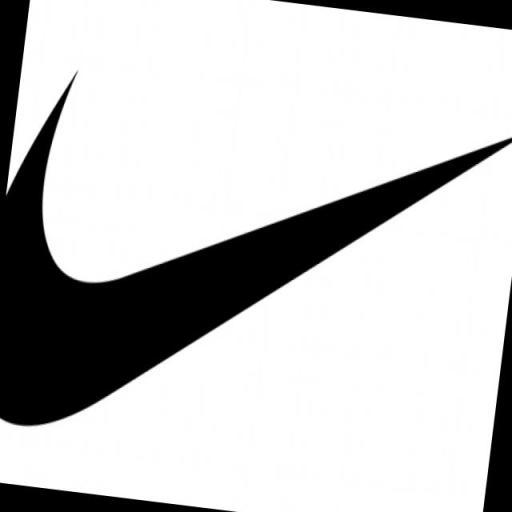Nike: (0, 58, 512, 484)
